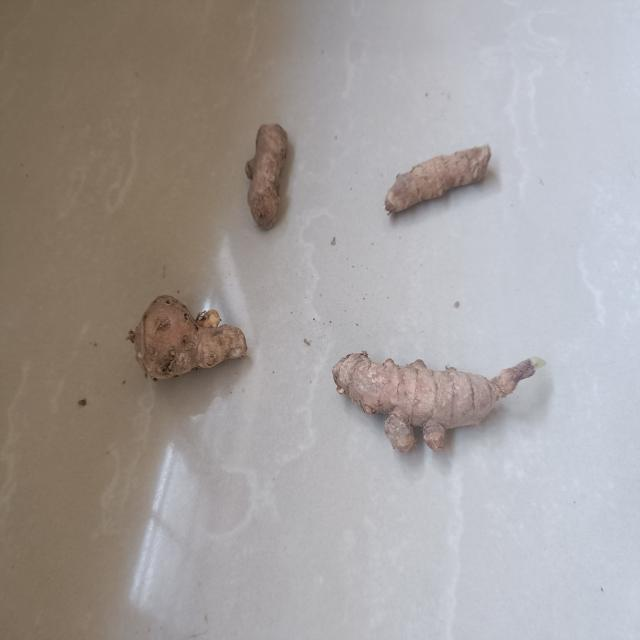ginger: (335, 348, 538, 452), (131, 294, 248, 384), (384, 146, 491, 212), (245, 119, 290, 230)
